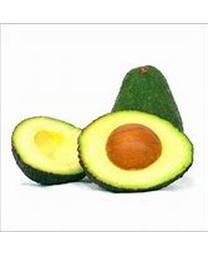avocado: (77, 110, 195, 195), (11, 116, 88, 187), (111, 65, 185, 138)
